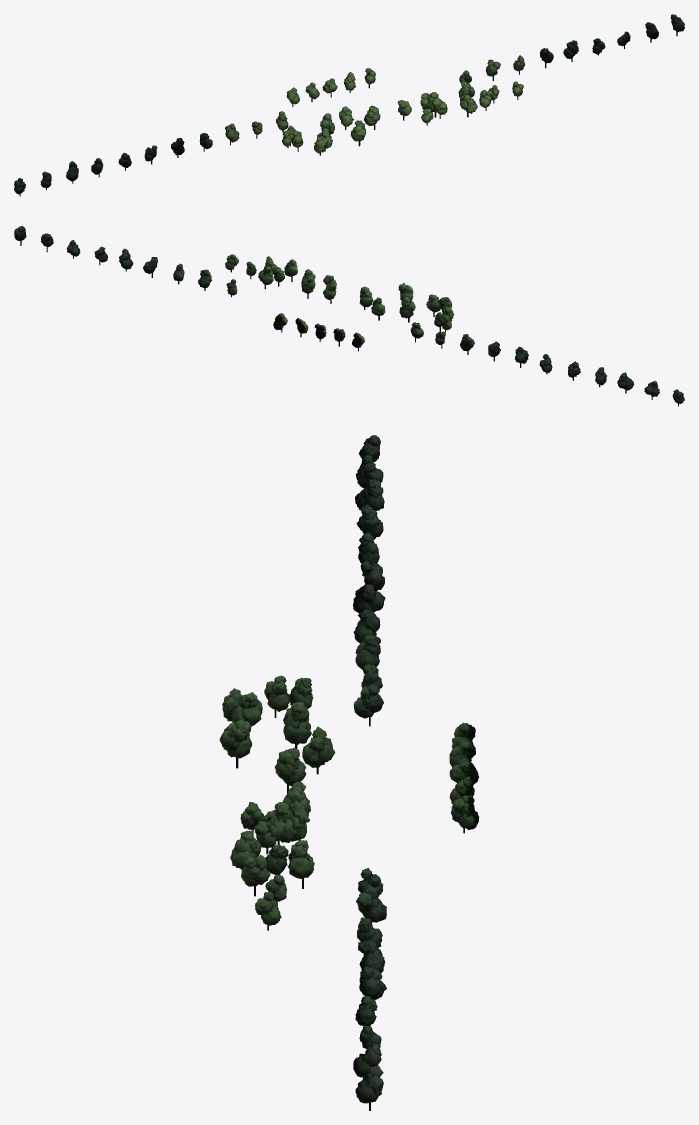
File: agac.glb
3 renders of one model, top to bottom at view 1: azimuth 30°, elevation 25°; view 2: azimuth 150°, elevation 25°; view 3: azimuth 270°, elevation 25°, orthographic. The views are drawn at different scales.
Parts seen in each view (by area): view 1: agac; view 2: agac; view 3: agac.
Boxes of the visible parts, x1,y1,x2,y2 form: agac: [14, 14, 684, 196]; agac: [14, 225, 684, 406]; agac: [219, 435, 479, 1110].
Size of the model in its own units: 280 by 10.04 by 47.13.
